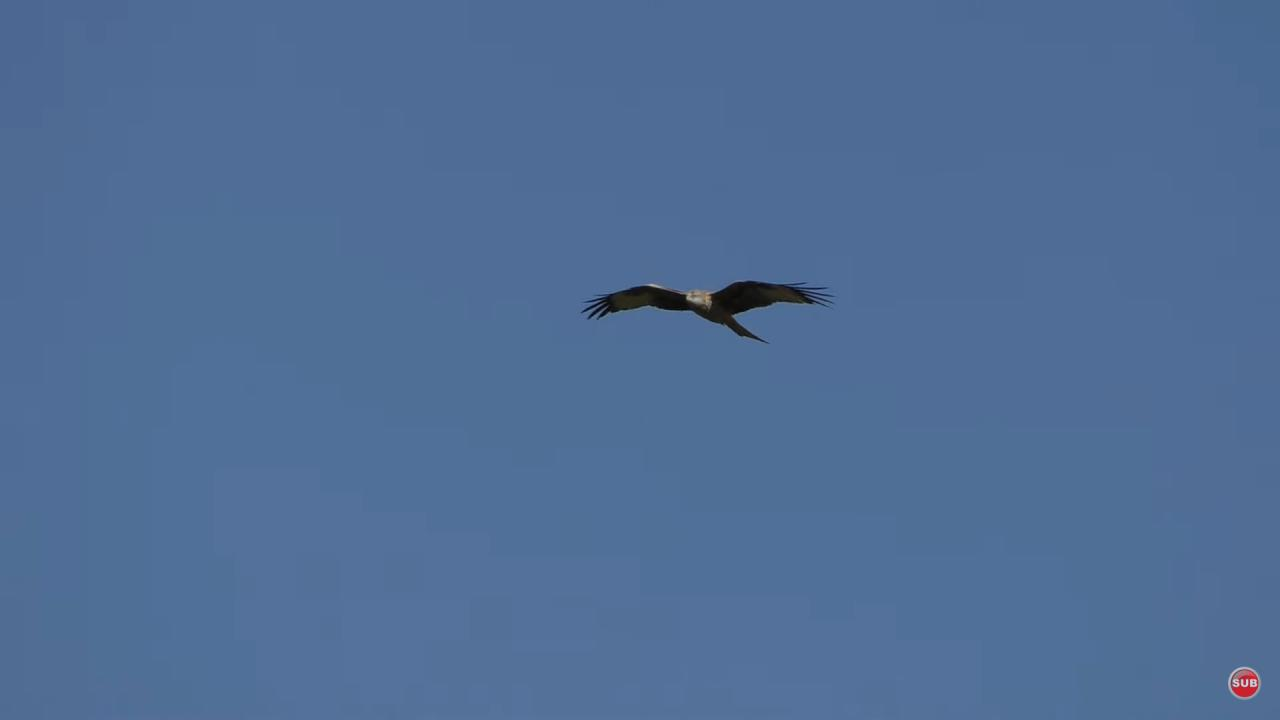Bird: (568, 263, 849, 361)
